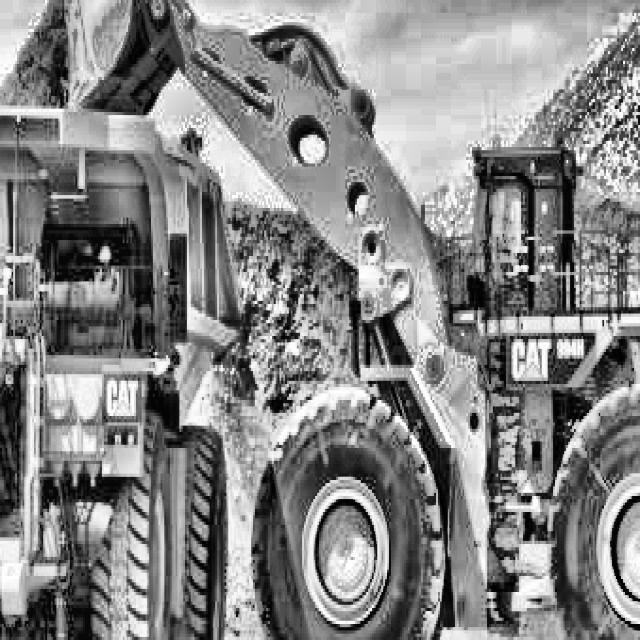buldozerpayloadergrader: (9, 0, 640, 640)
dump_truck: (0, 70, 228, 639)
